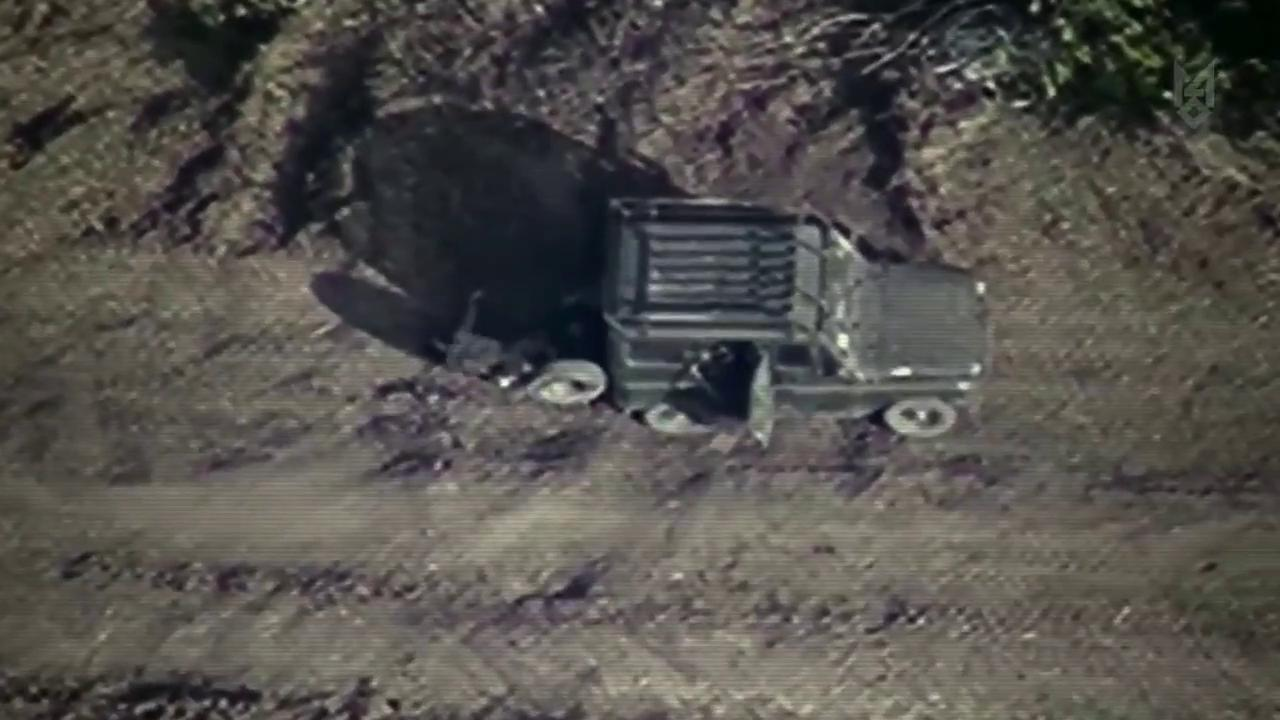tank: (595, 189, 993, 454)
